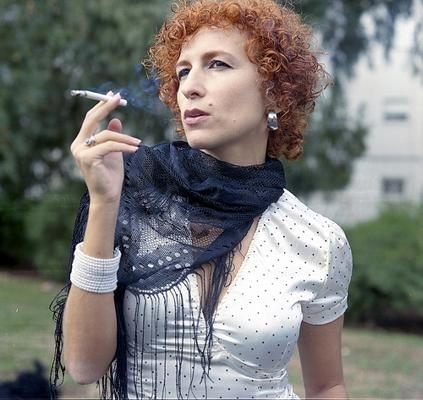person: (59, 3, 358, 400)
